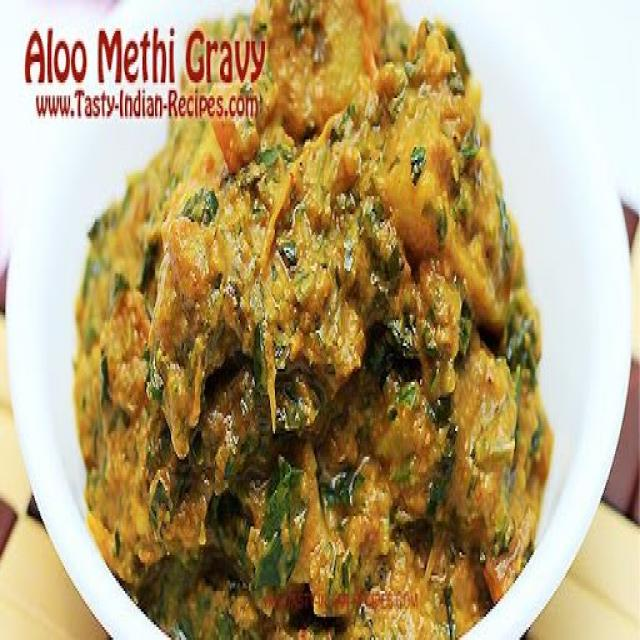Aloo Methi: (77, 0, 552, 640)
